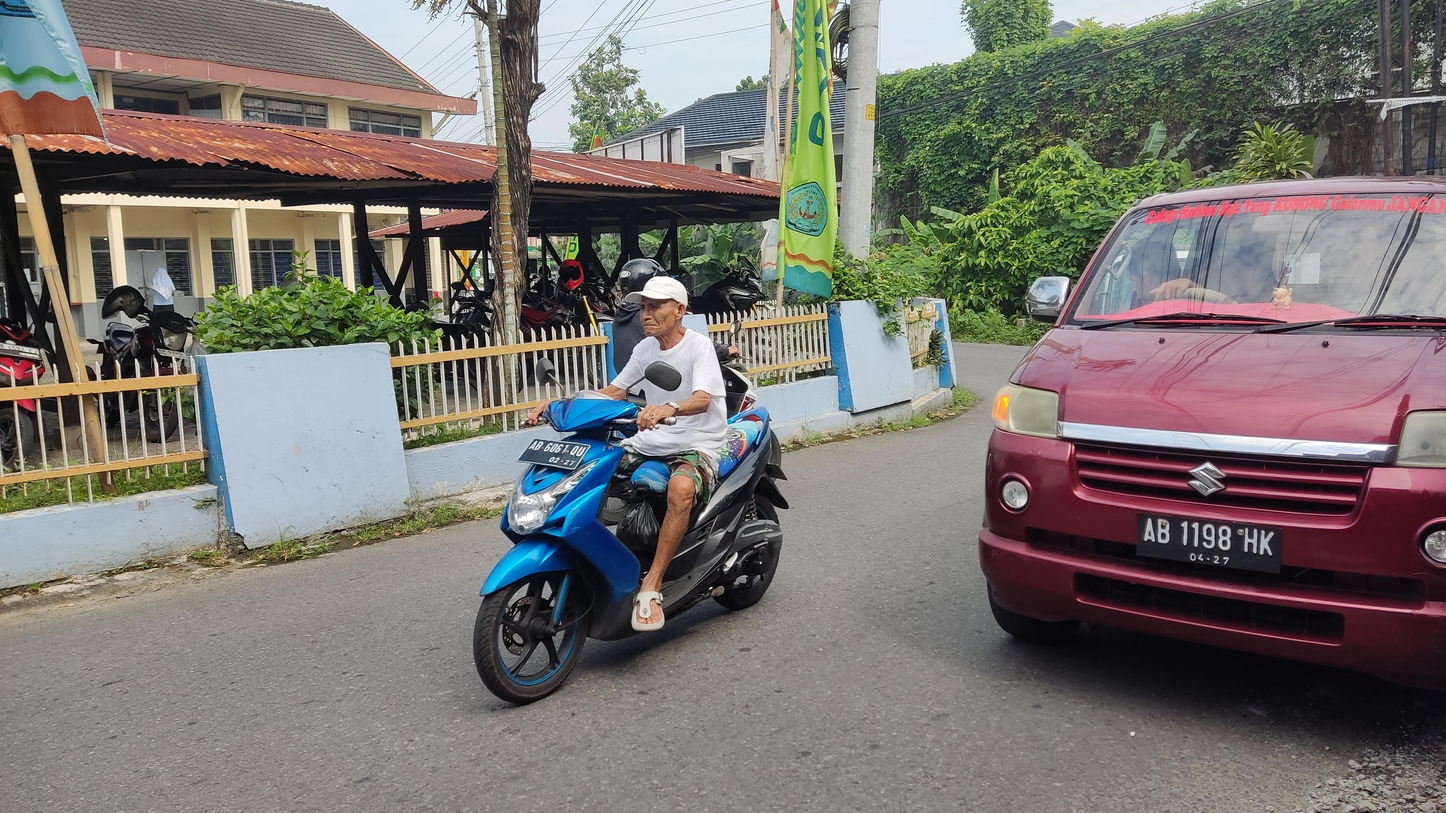helm: (624, 277, 690, 339)
riding: (471, 274, 793, 705)
